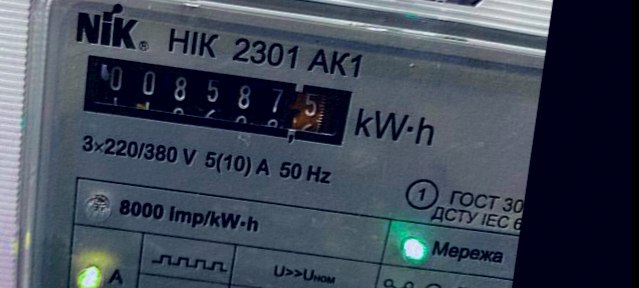0: (105, 61, 126, 92), (139, 67, 160, 97)
5: (301, 89, 322, 121), (202, 75, 223, 105)
7: (266, 83, 287, 115)
8: (234, 80, 255, 112), (170, 73, 190, 103)
screen: (61, 36, 372, 161)
